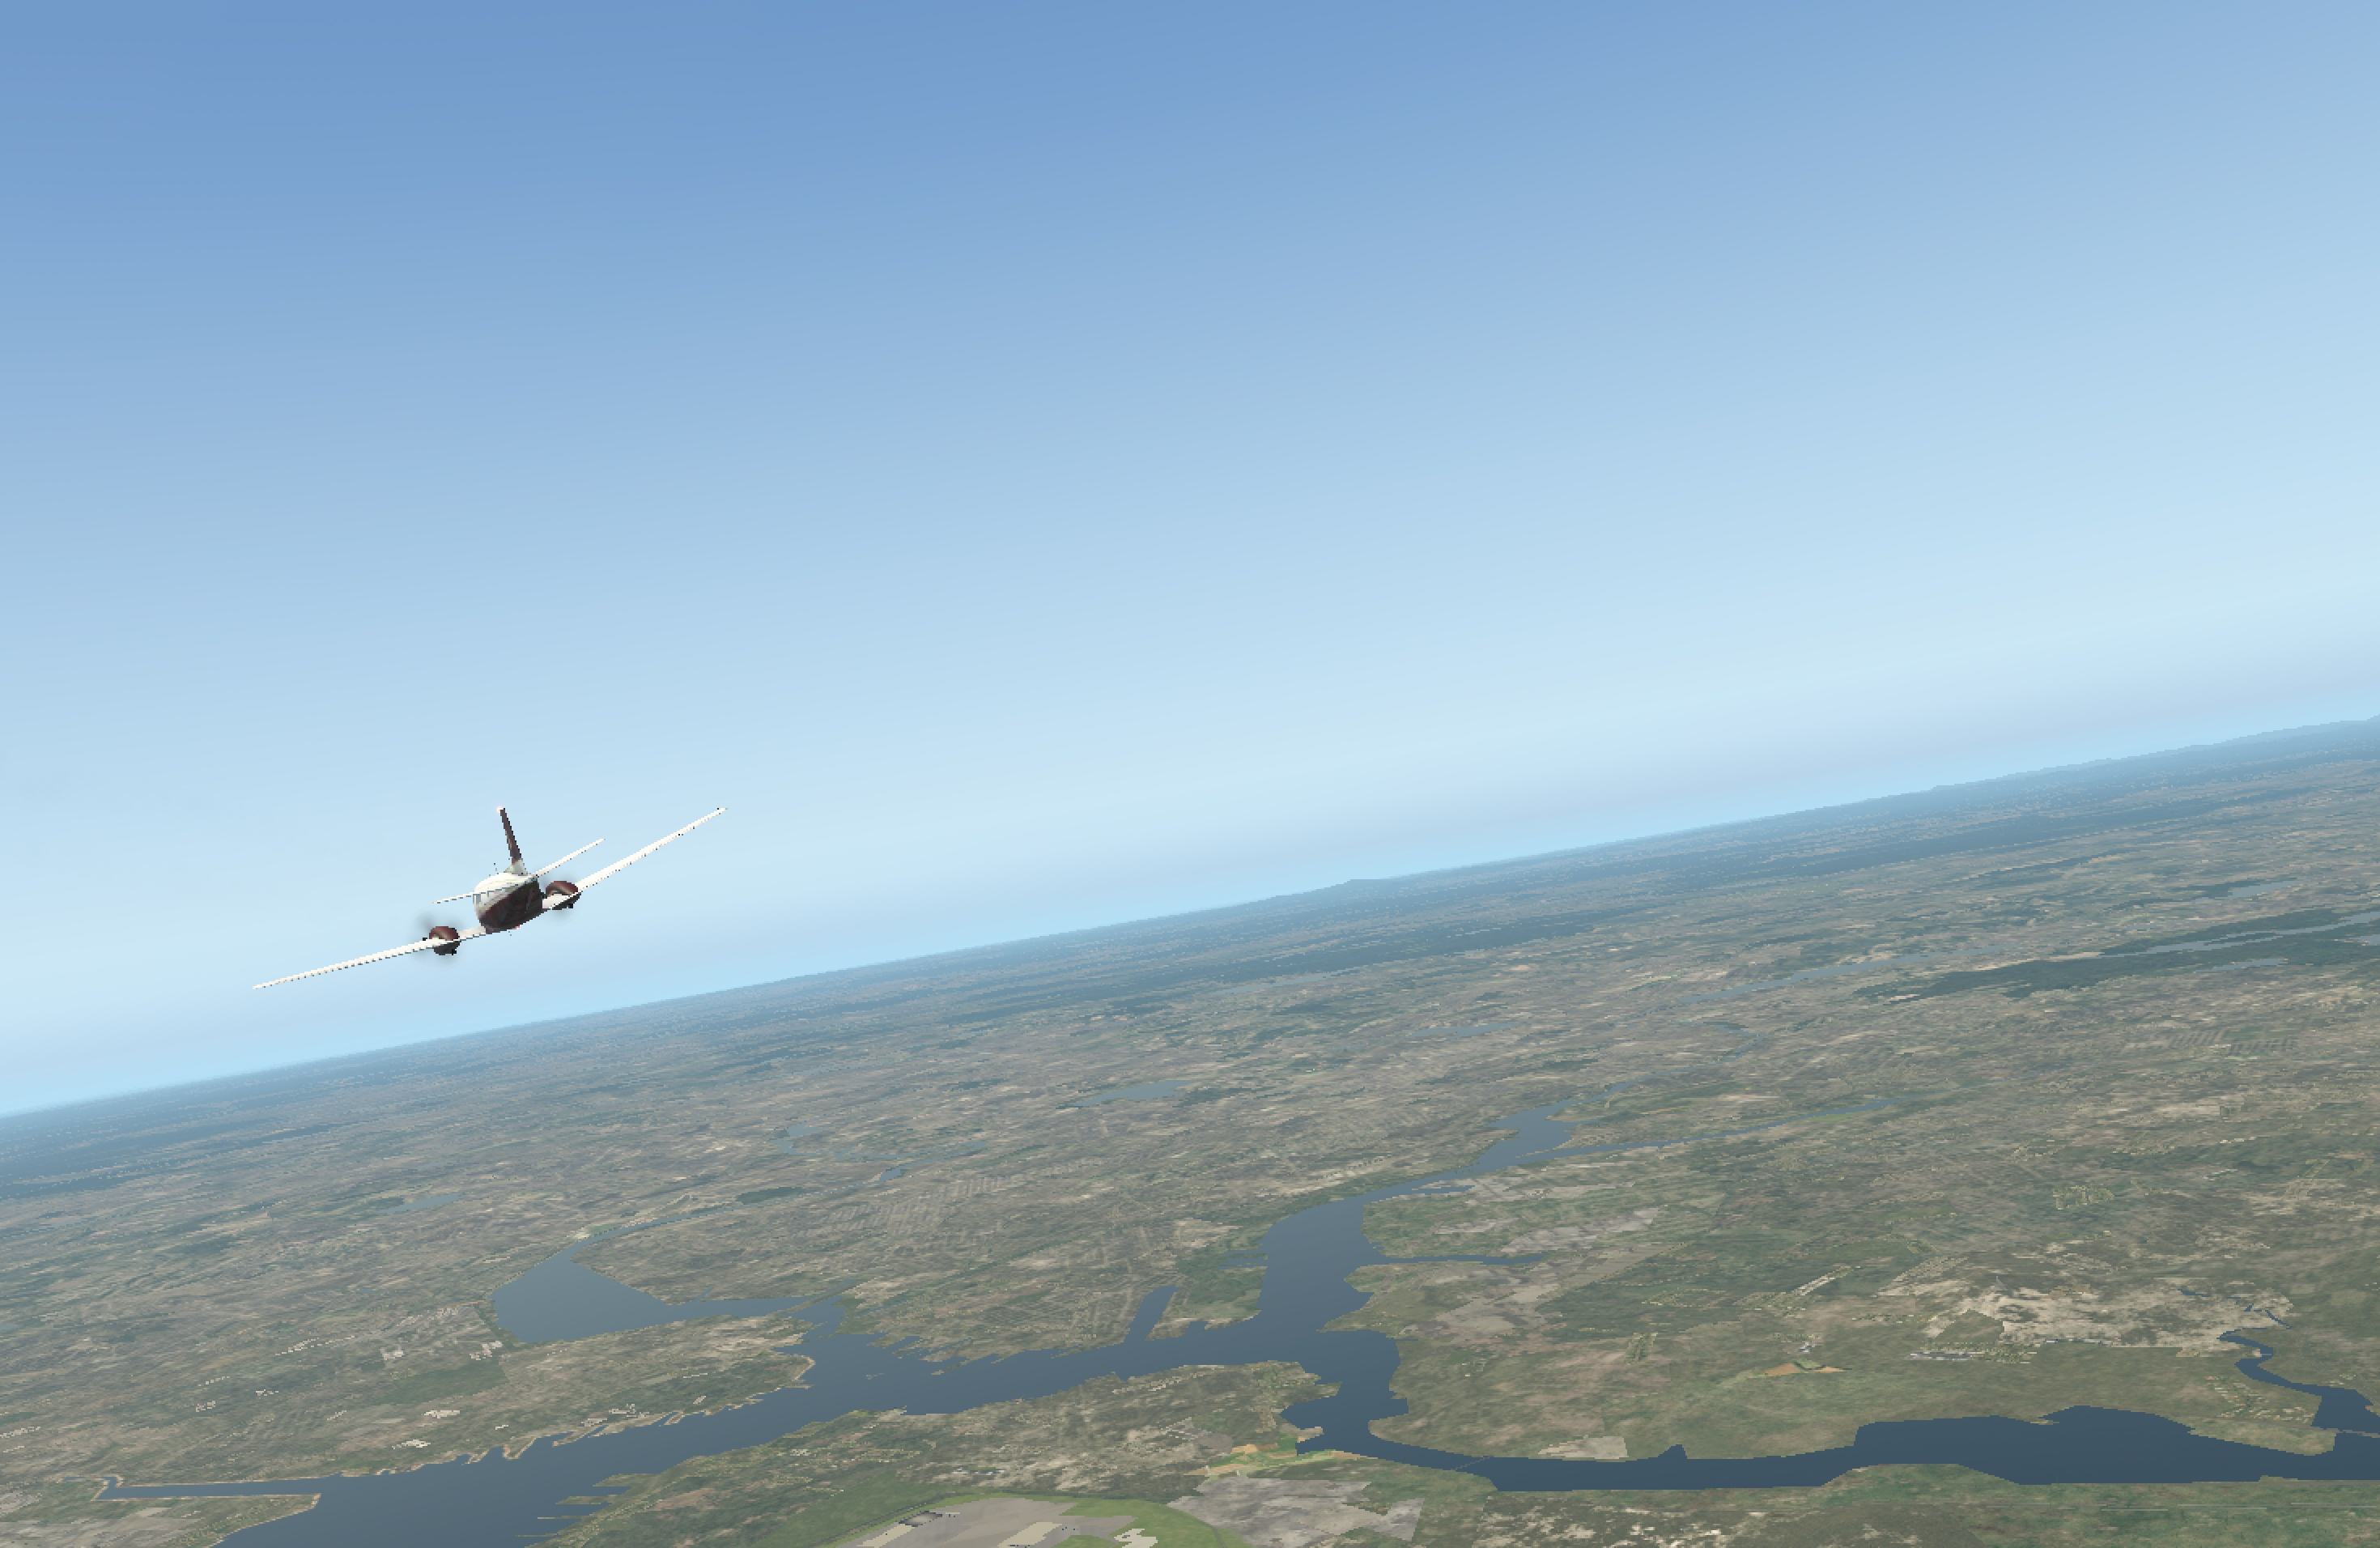aircraft: (281, 838, 741, 1010)
